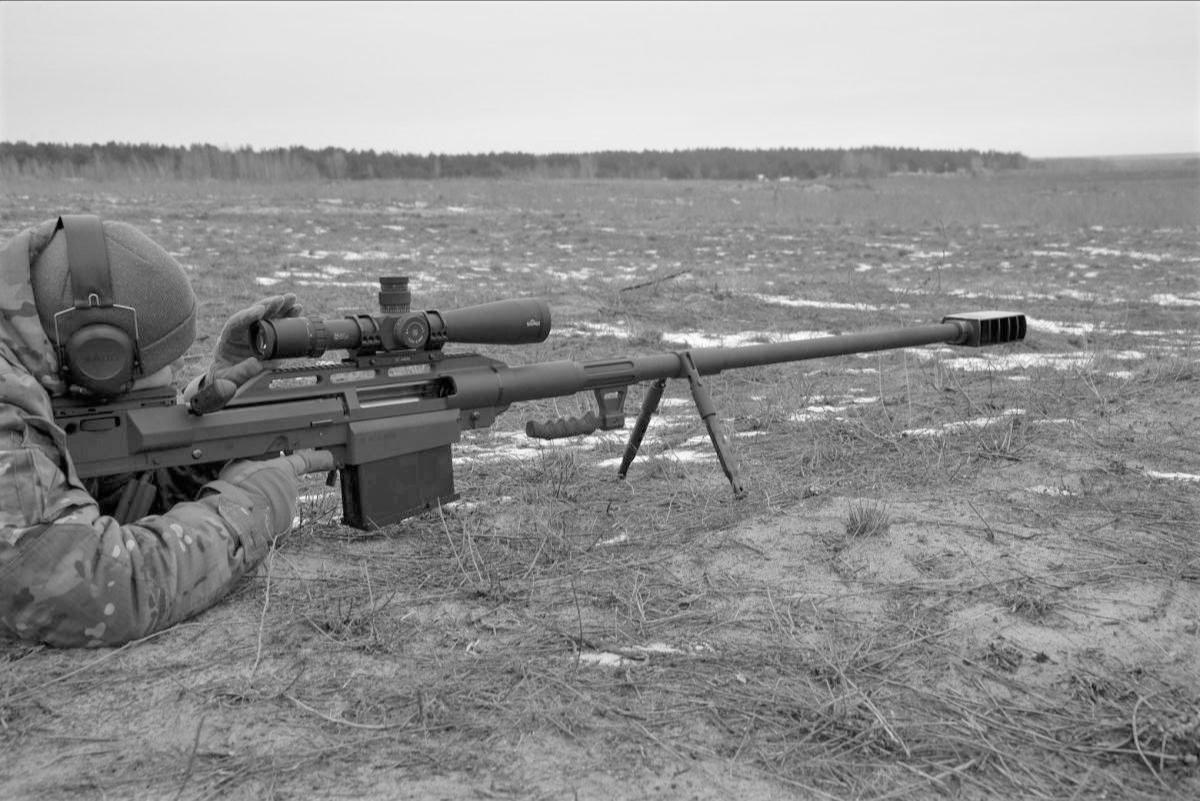gun: (42, 291, 1030, 501)
